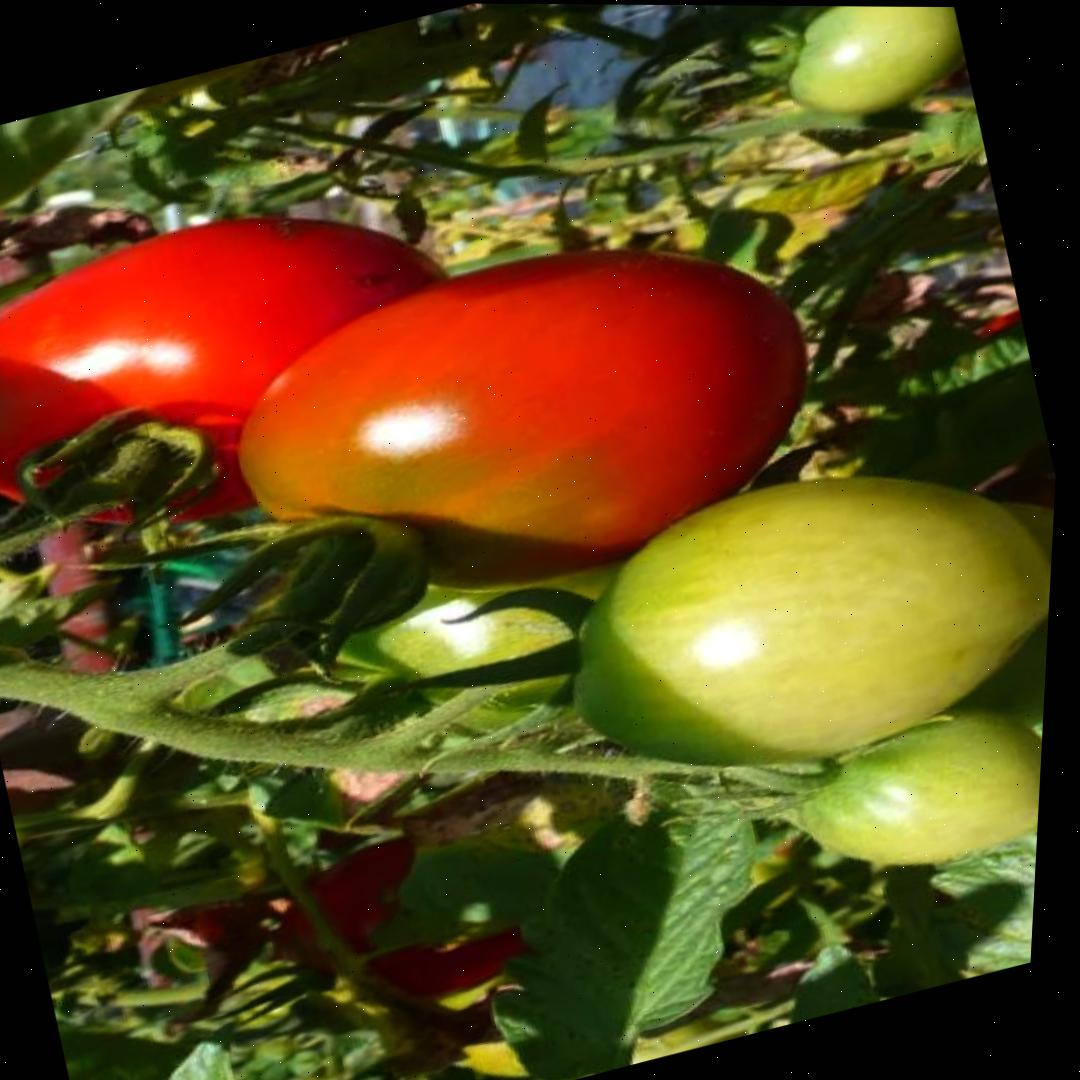matang: (0, 162, 503, 592)
mentah: (188, 186, 858, 663), (520, 416, 1059, 822), (755, 6, 977, 141)
